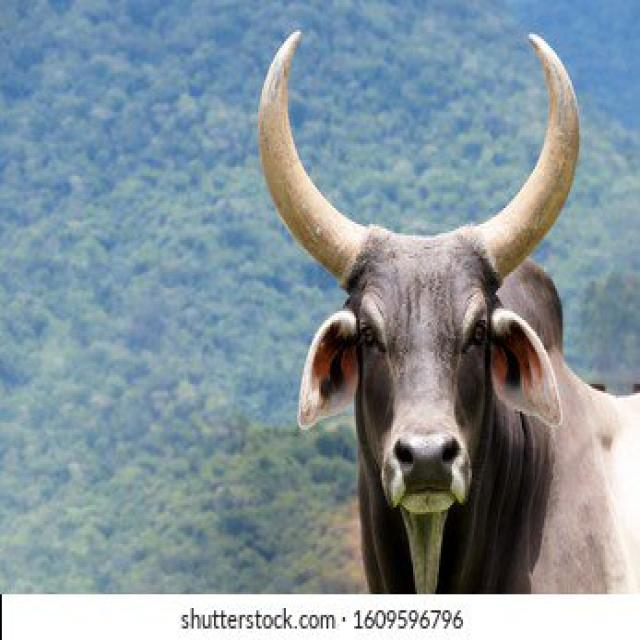Ox: (243, 14, 640, 574)
